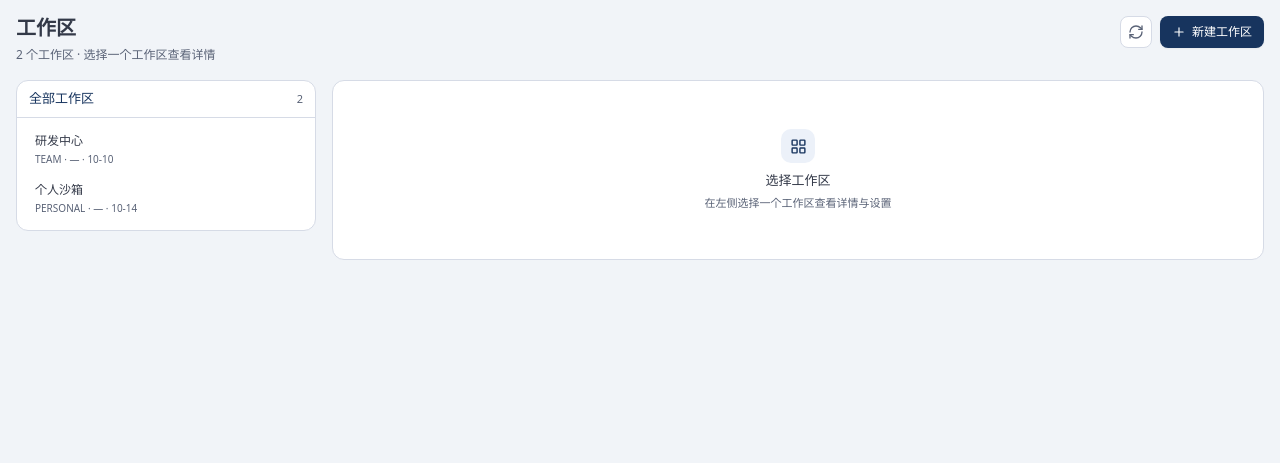
Test: Workspace › 选中工作区展示详情信息与设置区
Click the button with test id "workspace-row-w1".
click(59, 140)  # box [25,126,307,172]
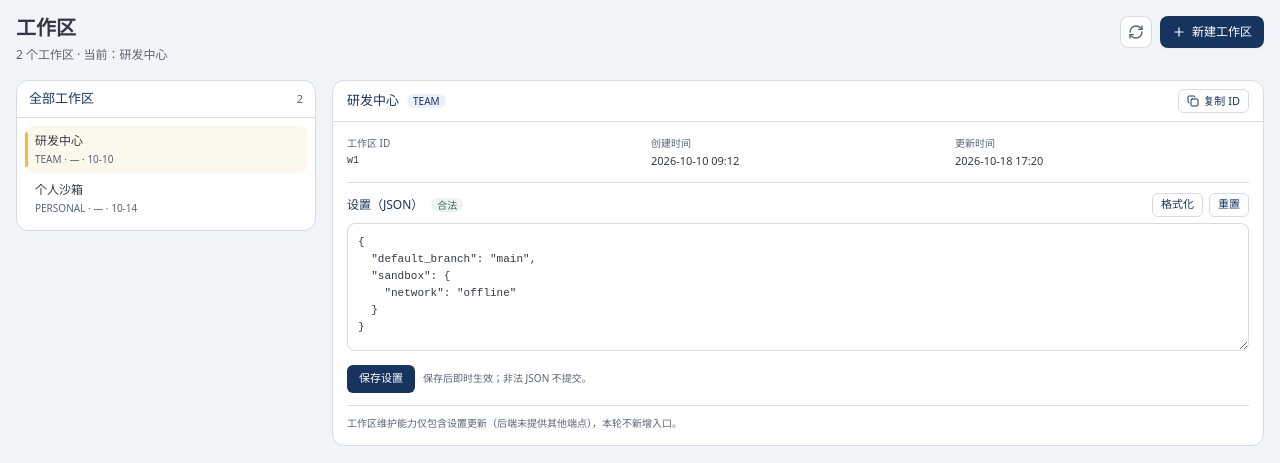
Expected: the text with test id "workspace-id" reads "w1", [347,155,359,166]
Expected: the text with test id "workspace-created-at" reads "2026-10-10 09:12", [651,153,739,168]
Expected: the text with test id "workspace-json-status" reads "合法", [437,198,457,212]
